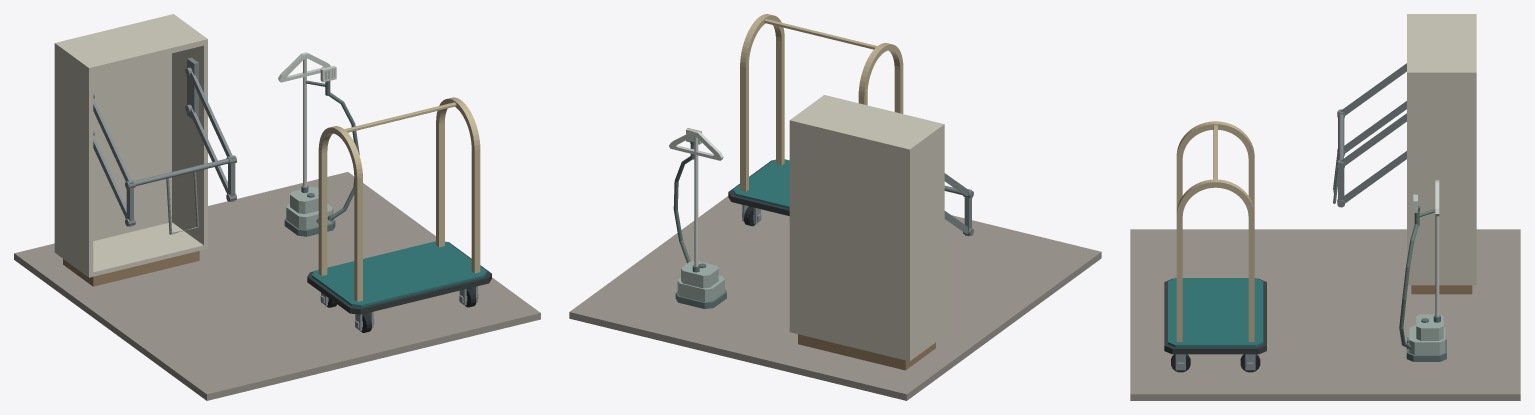
3 views of the same model, side by side, from view 1: azimuth 30°, elevation 25°; view 2: azimuth 150°, elevation 25°; view 3: azimuth 270°, elevation 25° (orthographic).
Visible parts, largest first — view 1: SCENE_ONLY__DisplayFloor, wardrobe__WholeOpenWardrobeShell, trolley__IntegralLowFlatDeckAndPerimeter, trolley__WholeArchedEndFrame_Left, trolley__WholeArchedEndFrame_Right, wardrobe__WholeRecessedGroundPlinth, steamer__WholeOpaqueUpperTankShell, steamer__WholeLowerControlAndTankCase, steamer__WholeIntegralOpenShoulderFrame, wardrobe__WholeParallelSwingLink_(1, 1), wardrobe__WholeLoweredHangingRail, trolley__UpperLongitudinalCrownBar (+6 smaller); view 2: SCENE_ONLY__DisplayFloor, wardrobe__WholeOpenWardrobeShell, trolley__WholeArchedEndFrame_Right, trolley__IntegralLowFlatDeckAndPerimeter, wardrobe__WholeRecessedGroundPlinth, trolley__WholeArchedEndFrame_Left, steamer__WholeOpaqueUpperTankShell, steamer__WholeLowerControlAndTankCase, steamer__WholeIntegralOpenShoulderFrame, steamer__WholeTallSingleShoulderPole, trolley__UpperLongitudinalCrownBar, steamer__WholeContinuousAttachedCurvedHose; view 3: SCENE_ONLY__DisplayFloor, wardrobe__WholeOpenWardrobeShell, trolley__IntegralLowFlatDeckAndPerimeter, trolley__WholeArchedEndFrame_Right, trolley__WholeArchedEndFrame_Left, steamer__WholeLowerControlAndTankCase, steamer__WholeOpaqueUpperTankShell, steamer__WholeContinuousAttachedCurvedHose, wardrobe__WholeRecessedGroundPlinth, wardrobe__WholeParallelSwingLink_(-1, 1), wardrobe__WholeParallelSwingLink_(1, 1), wardrobe__WholeParallelSwingLink_(1, 0) (+3 smaller).
Boxes of the visible parts, <box> form: SCENE_ONLY__DisplayFloor: <box>14,172,540,400</box>; wardrobe__WholeOpenWardrobeShell: <box>54,14,207,277</box>; trolley__IntegralLowFlatDeckAndPerimeter: <box>307,241,491,314</box>; trolley__WholeArchedEndFrame_Left: <box>318,126,362,301</box>; trolley__WholeArchedEndFrame_Right: <box>436,97,480,273</box>; wardrobe__WholeRecessedGroundPlinth: <box>63,251,199,286</box>; steamer__WholeOpaqueUpperTankShell: <box>290,187,318,213</box>; steamer__WholeLowerControlAndTankCase: <box>286,204,333,229</box>; steamer__WholeIntegralOpenShoulderFrame: <box>278,52,330,82</box>; wardrobe__WholeParallelSwingLink_(1, 1): <box>189,71,232,156</box>; wardrobe__WholeLoweredHangingRail: <box>135,158,229,185</box>; trolley__UpperLongitudinalCrownBar: <box>344,102,456,132</box>; SCENE_ONLY__DisplayFloor: <box>569,196,1101,400</box>; wardrobe__WholeOpenWardrobeShell: <box>789,95,944,361</box>; trolley__WholeArchedEndFrame_Right: <box>740,14,784,191</box>; trolley__IntegralLowFlatDeckAndPerimeter: <box>728,159,789,215</box>; wardrobe__WholeRecessedGroundPlinth: <box>798,334,935,370</box>; trolley__WholeArchedEndFrame_Left: <box>858,43,903,113</box>; steamer__WholeOpaqueUpperTankShell: <box>681,261,718,288</box>; steamer__WholeLowerControlAndTankCase: <box>677,275,724,302</box>; steamer__WholeIntegralOpenShoulderFrame: <box>669,130,723,160</box>; steamer__WholeTallSingleShoulderPole: <box>694,137,698,266</box>; trolley__UpperLongitudinalCrownBar: <box>764,19,877,49</box>; steamer__WholeContinuousAttachedCurvedHose: <box>673,156,691,263</box>; SCENE_ONLY__DisplayFloor: <box>1130,229,1520,400</box>; wardrobe__WholeOpenWardrobeShell: <box>1407,14,1476,285</box>; trolley__IntegralLowFlatDeckAndPerimeter: <box>1164,278,1266,354</box>; trolley__WholeArchedEndFrame_Right: <box>1176,179,1254,341</box>; trolley__WholeArchedEndFrame_Left: <box>1176,121,1254,211</box>; steamer__WholeLowerControlAndTankCase: <box>1409,325,1445,354</box>; steamer__WholeOpaqueUpperTankShell: <box>1416,314,1443,340</box>; steamer__WholeContinuousAttachedCurvedHose: <box>1399,224,1418,347</box>; wardrobe__WholeRecessedGroundPlinth: <box>1411,285,1472,294</box>; wardrobe__WholeParallelSwingLink_(-1, 1): <box>1341,63,1406,115</box>; wardrobe__WholeParallelSwingLink_(1, 1): <box>1341,113,1406,165</box>; wardrobe__WholeParallelSwingLink_(1, 0): <box>1344,151,1406,203</box>.
Bounding box in the file's own units: 3.2 × 2.09 × 3.2.
